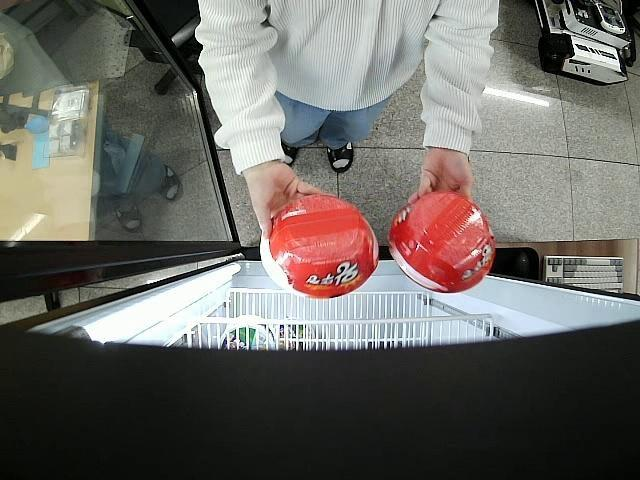10_wangTtukkeong: (260, 196, 379, 300), (388, 193, 496, 294)
